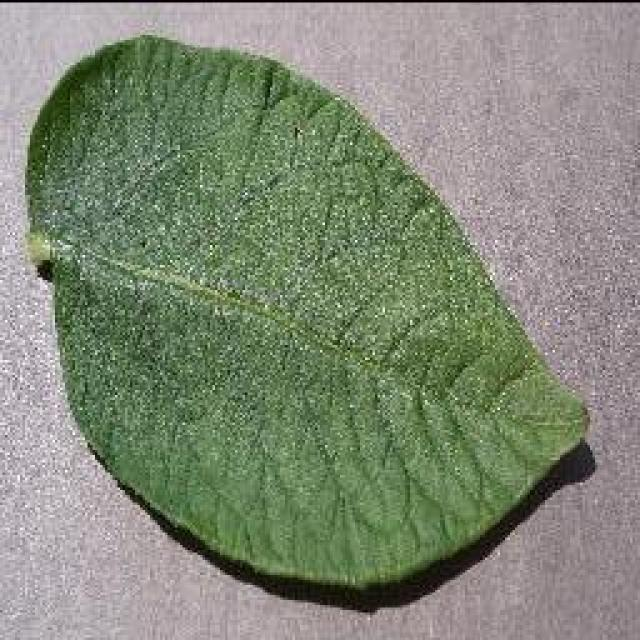Potato___healthy: (25, 31, 589, 593)
